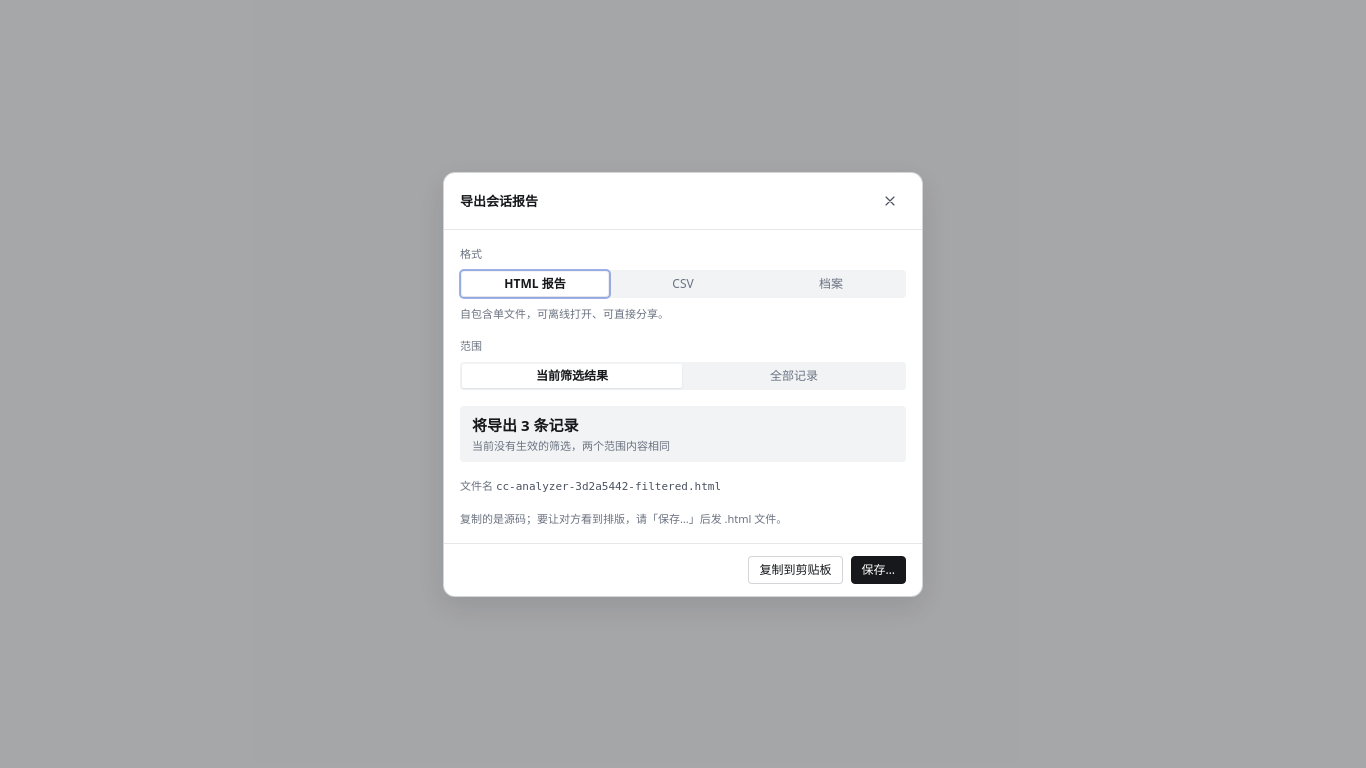
copies the HTML source, not a rendered string
Step 1. Click the button "复制到剪贴板" → [796, 570], box [748,556,842,584]
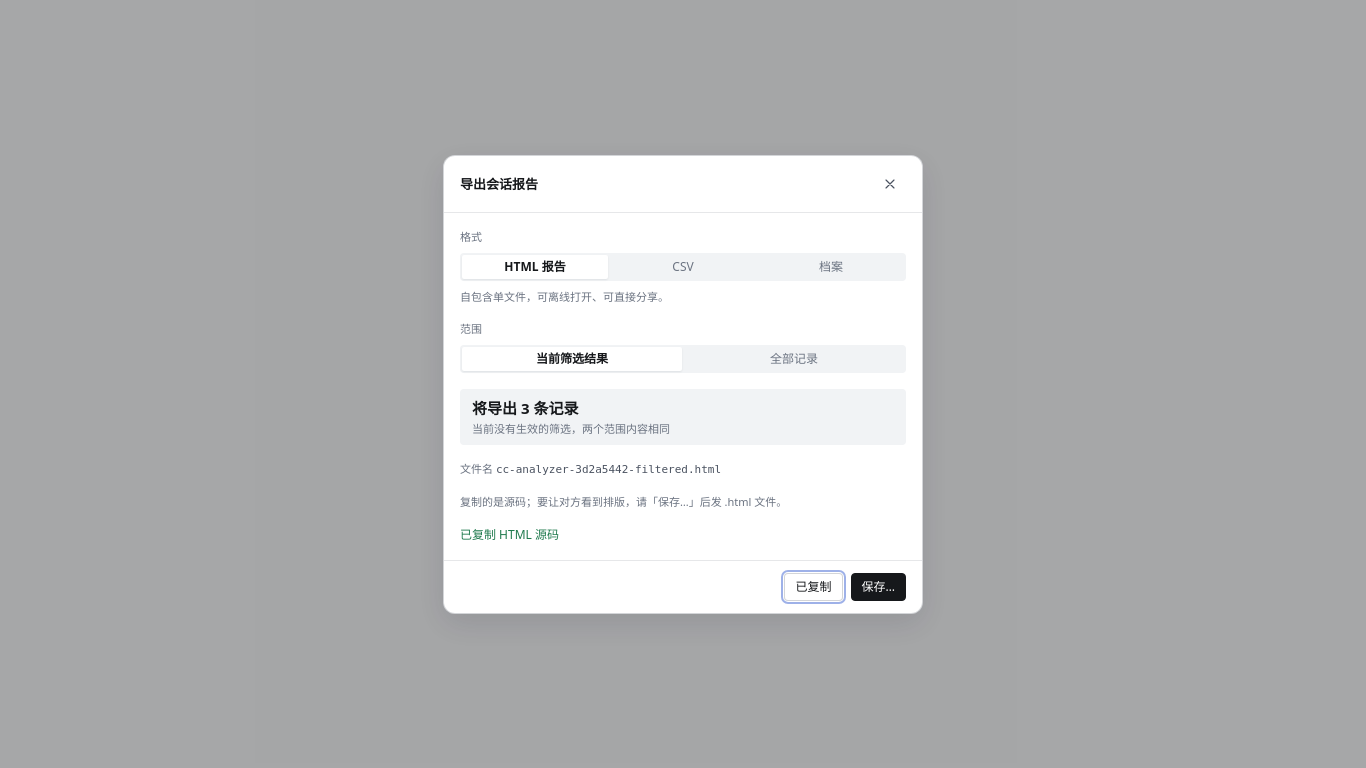
Expected: the text "已复制 HTML 源码" is shown, [460,526,559,542]
